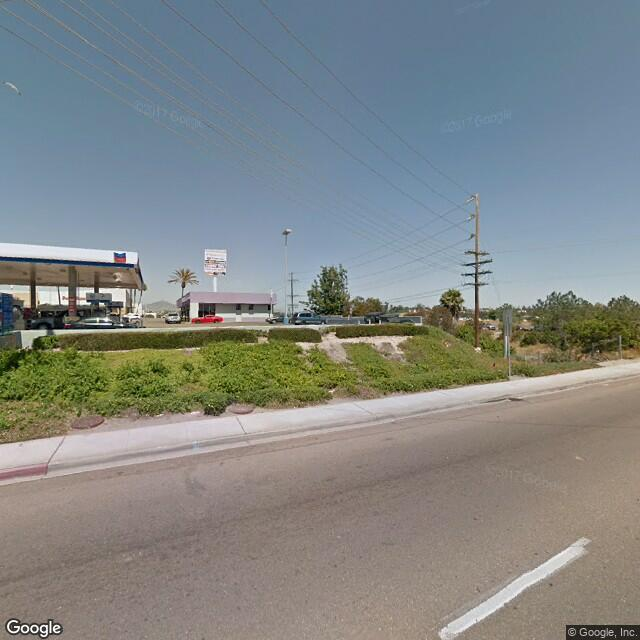litter: (152, 413, 165, 419), (327, 386, 336, 394), (189, 411, 204, 415)
